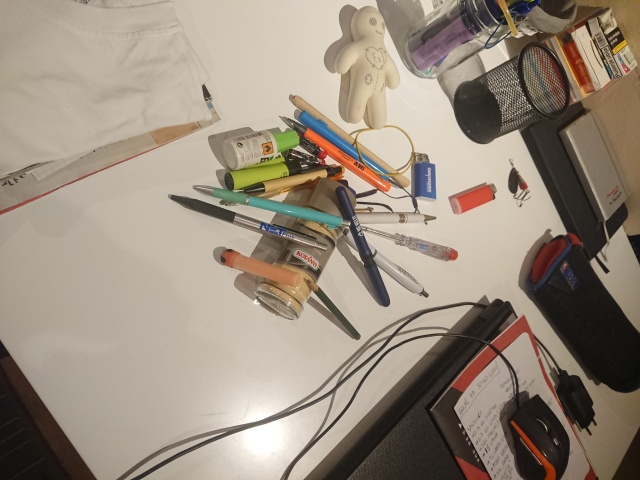Kotanyi Garlic Granules 70g: (252, 175, 358, 322)
